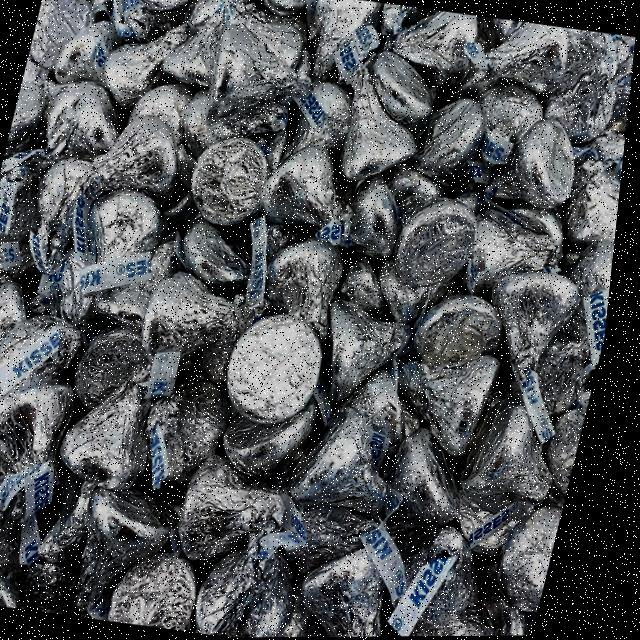kisses: (383, 332, 521, 464), (476, 264, 595, 411), (133, 264, 272, 383), (60, 359, 179, 497), (75, 477, 197, 610), (296, 416, 431, 535), (222, 307, 346, 432), (195, 17, 328, 132), (202, 522, 326, 639), (379, 526, 504, 637), (181, 449, 303, 562), (141, 363, 247, 491), (335, 65, 442, 191), (311, 298, 429, 412), (301, 527, 420, 638), (463, 400, 584, 508), (91, 3, 196, 125), (18, 151, 114, 279), (0, 370, 85, 514), (254, 140, 366, 249), (483, 108, 592, 217), (390, 190, 495, 299), (82, 107, 192, 211), (185, 130, 285, 232), (496, 496, 576, 623), (106, 544, 219, 633), (226, 388, 328, 486), (262, 234, 356, 335), (472, 18, 577, 107), (413, 286, 512, 378)
